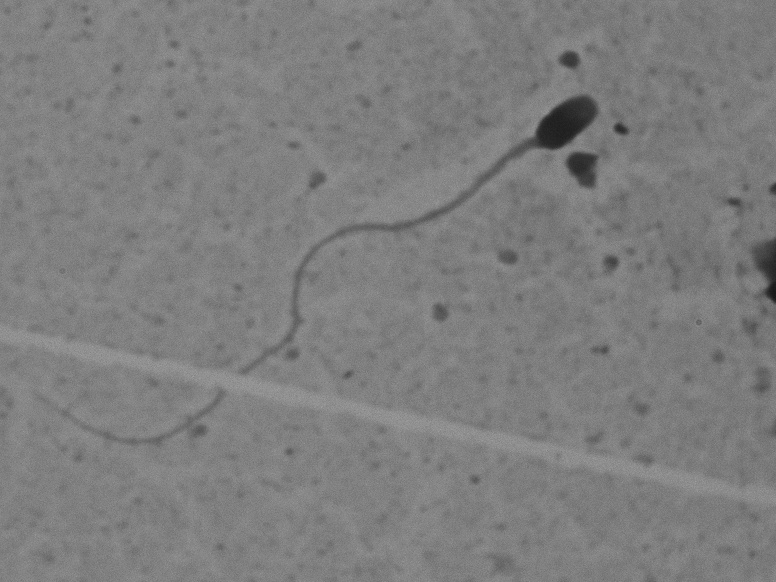Abnormal: (34, 51, 609, 454)
